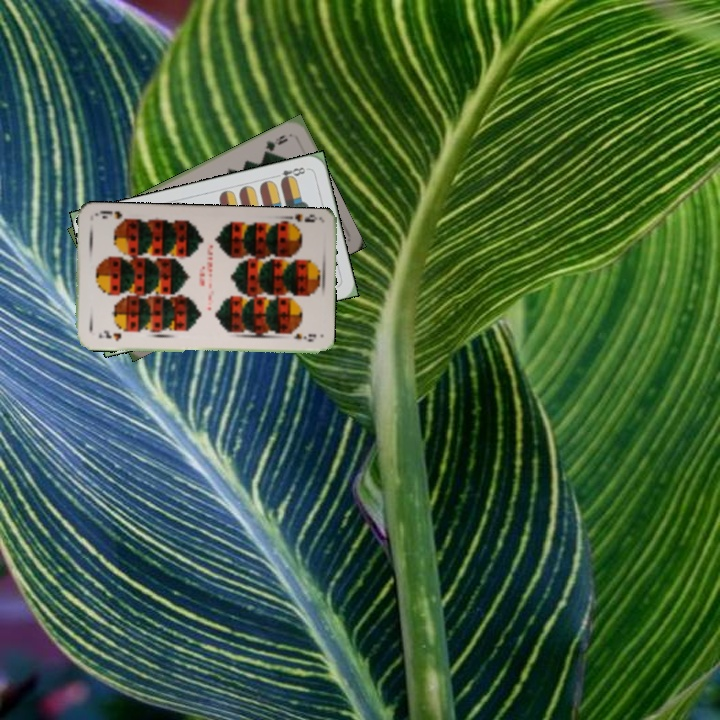E8: (270, 163, 311, 185)
G9: (259, 130, 290, 158)
S9: (281, 211, 320, 231), (95, 326, 124, 343)
